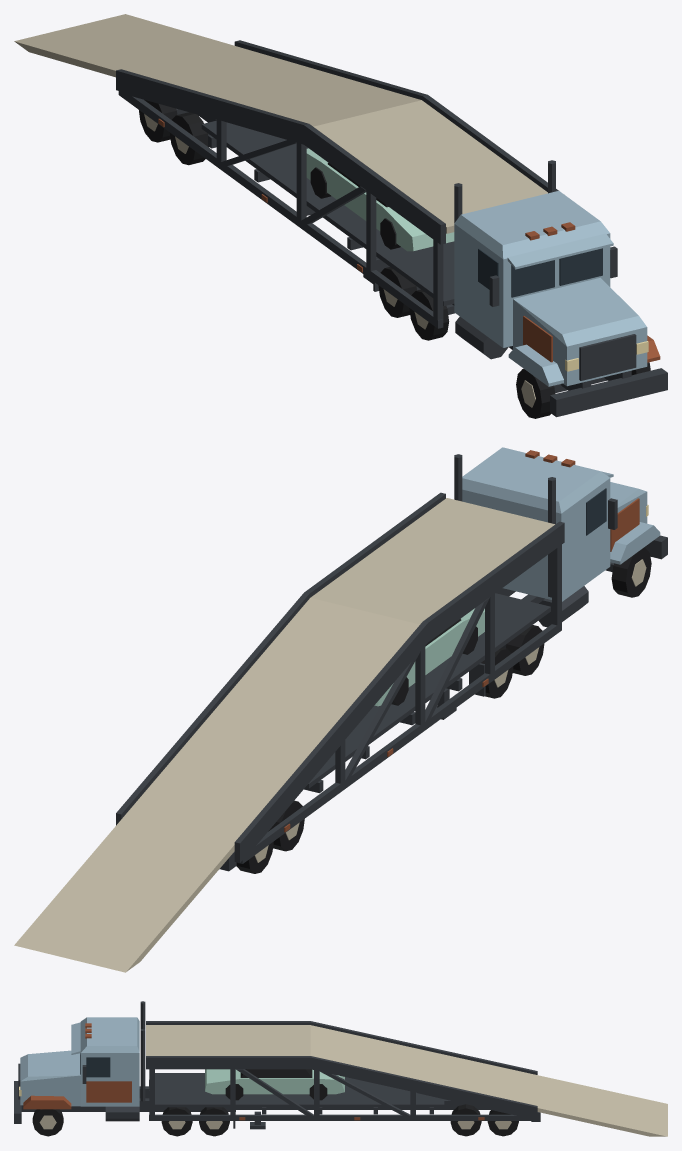
Rendered from tow-truck.glb.
3 renders of one model, top to bottom at view 1: azimuth 30°, elevation 25°; view 2: azimuth 150°, elevation 25°; view 3: azimuth 270°, elevation 25°, orthographic. The views are drawn at different scales.
Parts seen in each view (by area): view 1: trailer, cab, ramp_surface, car_2, wheel_10, wheel_4, wheel_8, wheel_6, wheel_2; view 2: ramp_surface, trailer, cab, car_2, wheel_10, wheel_8, wheel_4; view 3: trailer, ramp_surface, cab, car_2, wheel_9, wheel_3, wheel_7, wheel_5, wheel_1.
Boxes of the visible parts, x1,y1,x2,y2 form: trailer: (116,40,558,328); cab: (373,160,667,417); ramp_surface: (14,14,421,126); car_2: (306,148,454,251); wheel_10: (516,368,555,418); wheel_4: (169,112,209,165); wheel_8: (409,289,449,340); wheel_6: (378,267,416,317); wheel_2: (139,100,177,142); ramp_surface: (14,598,419,972); trailer: (116,492,564,871); cab: (454,447,667,696); car_2: (374,608,484,706); wheel_10: (611,547,651,597); wheel_8: (506,625,544,675); wheel_4: (271,800,304,851); trailer: (146,1021,540,1129); ramp_surface: (310,1025,667,1136); cab: (14,1001,235,1128); car_2: (205,1069,344,1100); wheel_9: (32,1109,63,1136); wheel_3: (450,1104,481,1136); wheel_7: (161,1107,192,1136); wheel_5: (199,1107,229,1136); wheel_1: (487,1110,518,1136).
Bounding box in the file's own units: 2.84 × 3.7 × 21.05.
